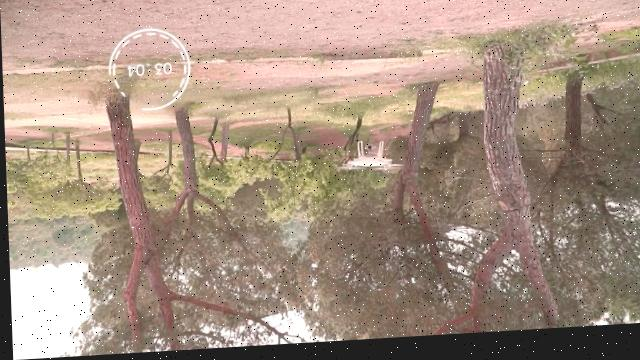drone: (331, 141, 408, 181)
